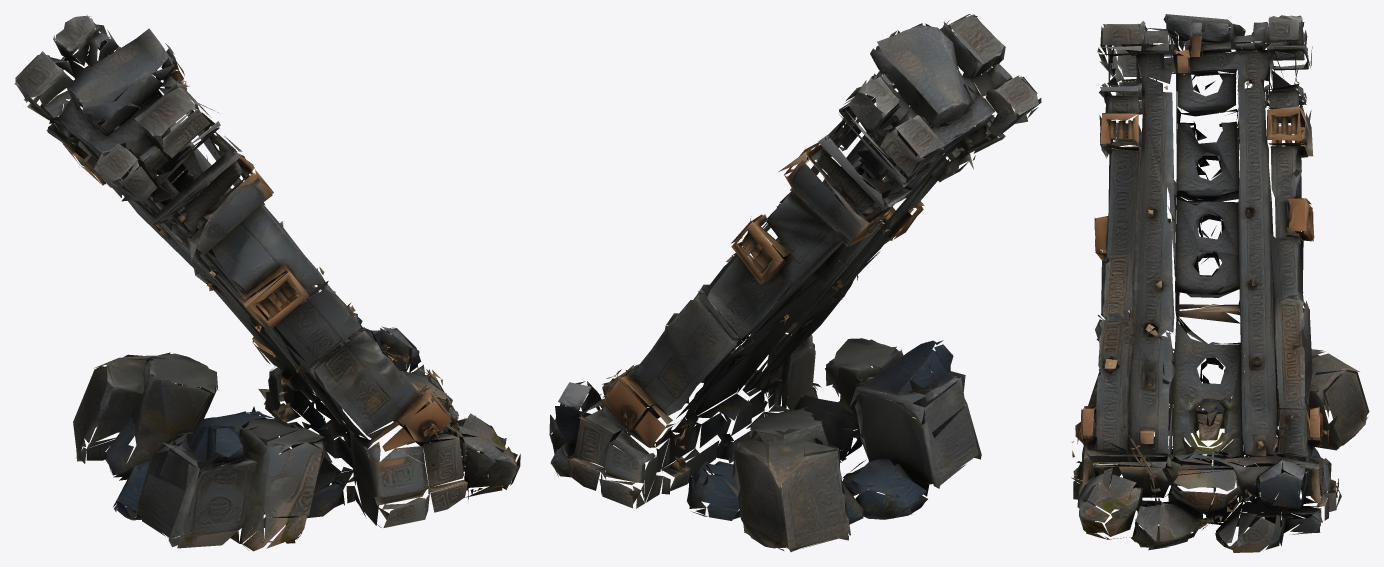
The model's file is ch3_broken_pylon_b_LOD2.glb.
3 renders of one model, left to right at view 1: azimuth 30°, elevation 25°; view 2: azimuth 150°, elevation 25°; view 3: azimuth 270°, elevation 25°, orthographic. The views are drawn at different scales.
Parts seen in each view (by area): view 1: tripo_node_7c5f5e39-295b-4532-9354-16df792670c5; view 2: tripo_node_7c5f5e39-295b-4532-9354-16df792670c5; view 3: tripo_node_7c5f5e39-295b-4532-9354-16df792670c5.
Boxes of the visible parts, x1=… form: tripo_node_7c5f5e39-295b-4532-9354-16df792670c5: x1=14, y1=14, x2=520, y2=551; tripo_node_7c5f5e39-295b-4532-9354-16df792670c5: x1=549, y1=14, x2=1041, y2=551; tripo_node_7c5f5e39-295b-4532-9354-16df792670c5: x1=1071, y1=14, x2=1369, y2=552.
Size of the model in its own units: 0.9242 by 1.01 by 0.672.
1 material, 1 textured.
